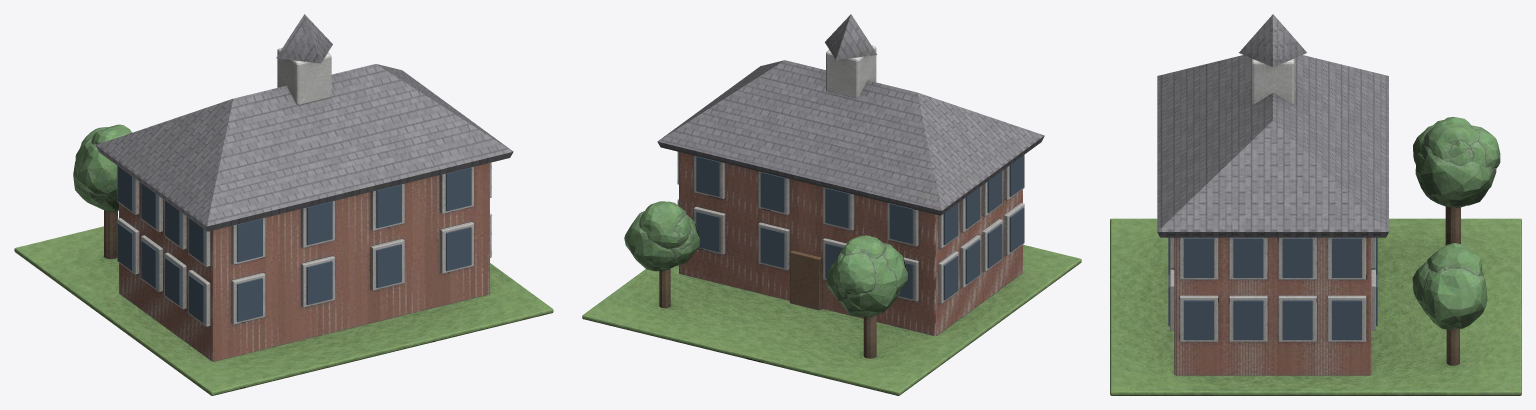
File: schule.glb
3 renders of one model, left to right at view 1: azimuth 30°, elevation 25°; view 2: azimuth 150°, elevation 25°; view 3: azimuth 270°, elevation 25°, orthographic. The views are drawn at different scales.
Parts seen in each view (by area): view 1: schule, schule_details; view 2: schule, schule_details; view 3: schule, schule_details.
Part boxes in pixels (x1,y1,x2,y2): schule: [14, 14, 553, 395]; schule_details: [117, 166, 471, 322]; schule: [582, 14, 1081, 395]; schule_details: [696, 155, 1024, 300]; schule: [1110, 14, 1521, 395]; schule_details: [1168, 237, 1377, 339].
Size of the model in its own units: 0.96 by 0.7601 by 0.96.
Materials: 2 (1 with a texture image).
